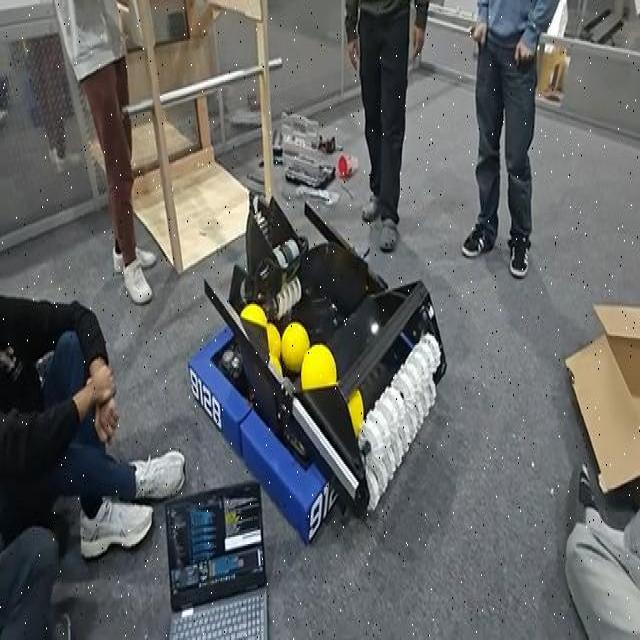Fuel: (300, 344, 337, 392), (300, 343, 336, 389), (281, 322, 309, 372), (347, 389, 364, 436), (240, 303, 268, 331), (348, 390, 363, 436), (241, 302, 266, 327), (267, 324, 280, 359)
